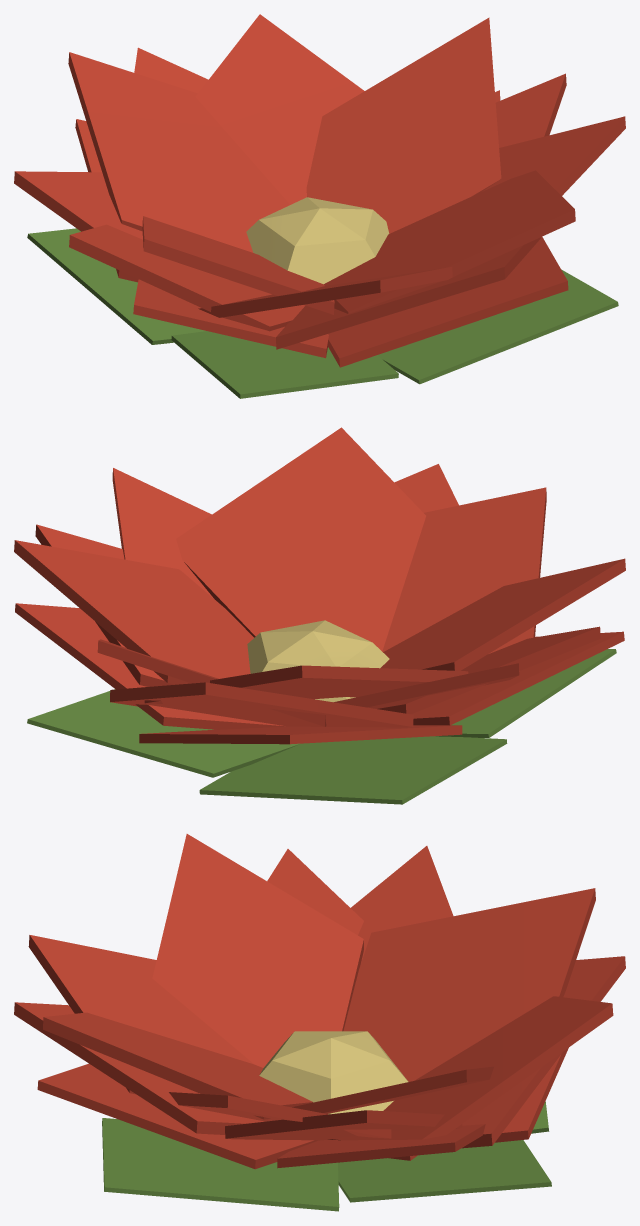
File: FlorSinTallo.fbx
3 views of the same model, one above another, from view 1: azimuth 30°, elevation 25°; view 2: azimuth 150°, elevation 25°; view 3: azimuth 270°, elevation 25° (orthographic). The views are drawn at different scales.
Parts seen in each view (by area): view 1: Flor; view 2: Flor; view 3: Flor.
Boxes of the visible parts, <box> form: Flor: <box>14,14,625,398</box>; Flor: <box>14,427,625,804</box>; Flor: <box>14,834,625,1211</box>.
Bounding box in the file's own units: 2.66 × 0.9818 × 2.6.
